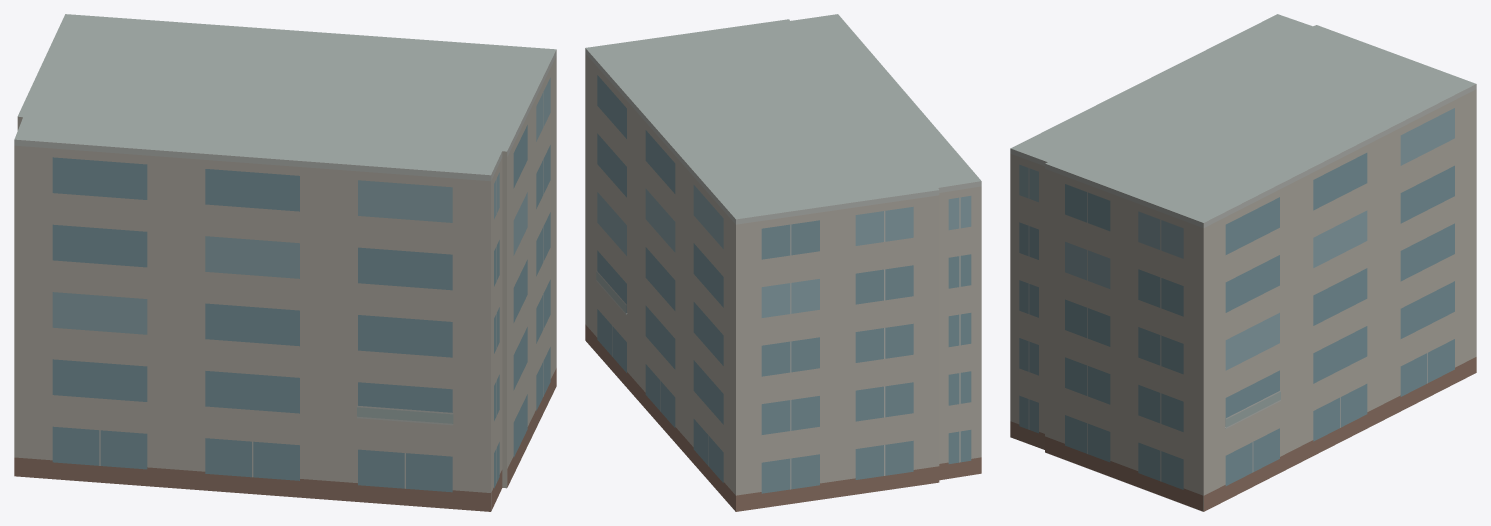
Rendered from survey-upis-32693097.glb.
3 views of the same model, side by side, from view 1: azimuth 30°, elevation 25°; view 2: azimuth 150°, elevation 25°; view 3: azimuth 270°, elevation 25° (orthographic). The views are drawn at different scales.
Visible parts, largest first — view 1: survey-upis-32693097.tmp; view 2: survey-upis-32693097.tmp; view 3: survey-upis-32693097.tmp.
Part boxes in pixels (x1,y1,x2,y2): survey-upis-32693097.tmp: [14, 14, 556, 511]; survey-upis-32693097.tmp: [585, 14, 981, 511]; survey-upis-32693097.tmp: [1010, 14, 1476, 511].
Size of the model in its own units: 21.12 by 13.6 by 19.9.
